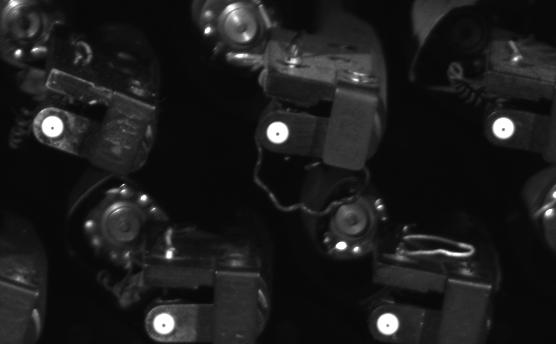fiber: (487, 111, 523, 144), (372, 307, 407, 340), (261, 116, 295, 149), (37, 111, 70, 141), (148, 309, 180, 338)
